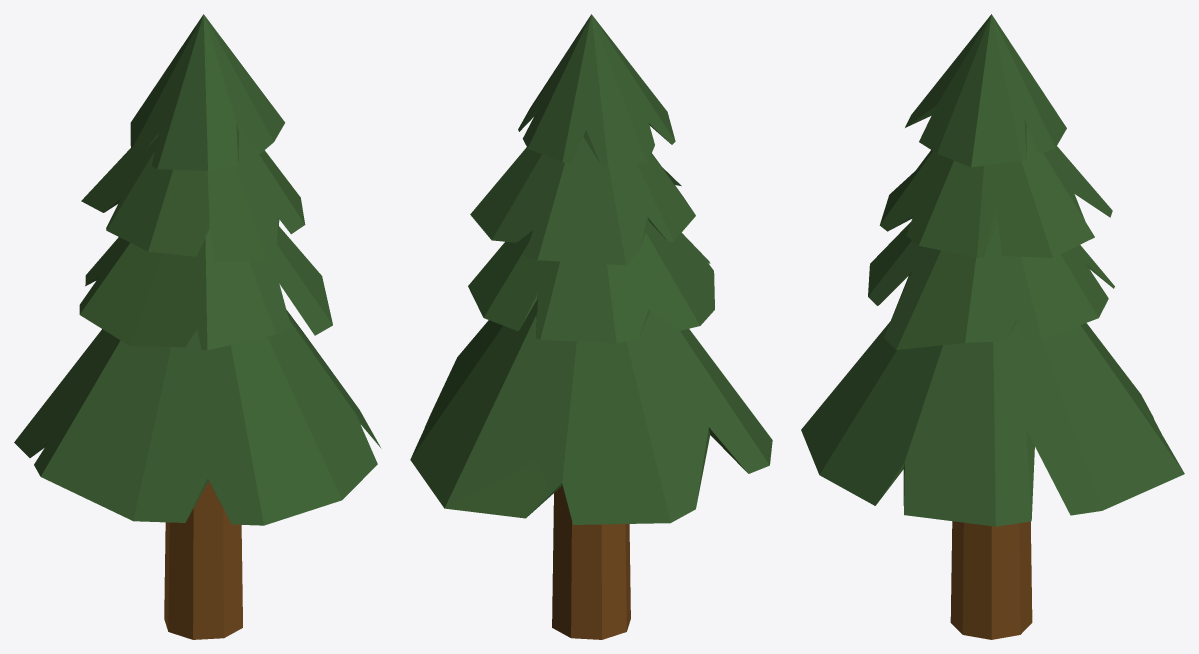
The model's file is Nadelbaum_01_unsymetric_03_rdy.fbx.
3 renders of one model, left to right at view 1: azimuth 30°, elevation 25°; view 2: azimuth 150°, elevation 25°; view 3: azimuth 270°, elevation 25°, orthographic.
Visible parts, largest first — view 1: Nadelbaum_01_unsymetric_03; view 2: Nadelbaum_01_unsymetric_03; view 3: Nadelbaum_01_unsymetric_03.
Boxes of the visible parts, x1,y1,x2,y2 form: Nadelbaum_01_unsymetric_03: (14, 14, 381, 639); Nadelbaum_01_unsymetric_03: (410, 14, 772, 639); Nadelbaum_01_unsymetric_03: (801, 14, 1184, 639).
Size of the model in its own units: 672 by 1189 by 680.
